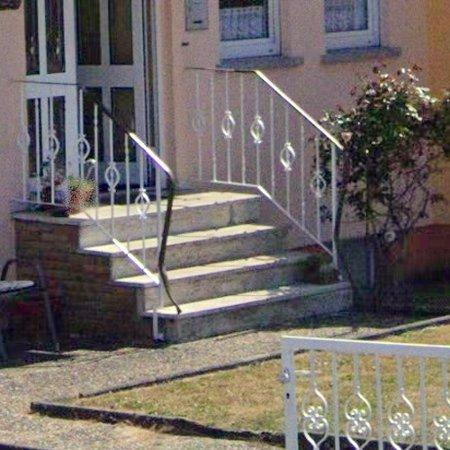stairs: (15, 192, 351, 345)
